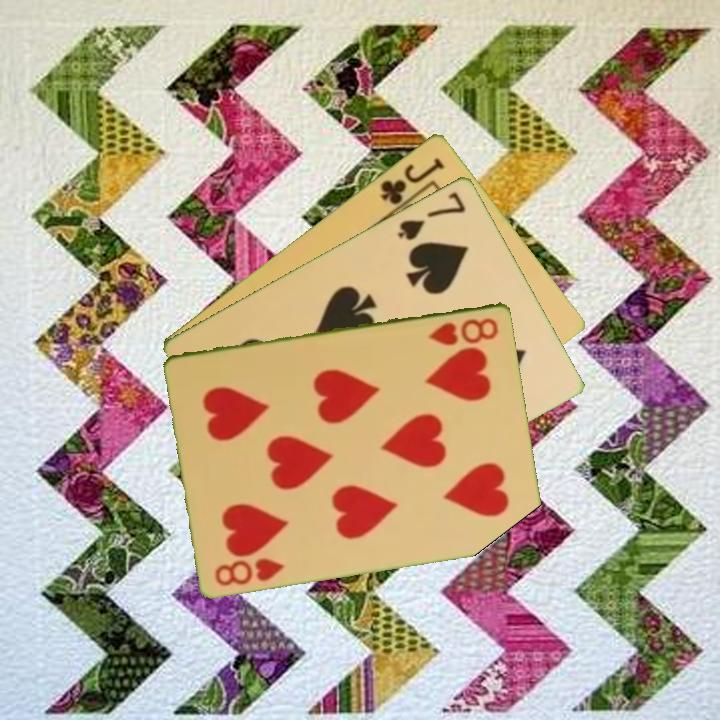7s: (394, 188, 469, 243)
8h: (426, 313, 502, 348), (211, 554, 287, 589)
Jc: (376, 153, 448, 208)
